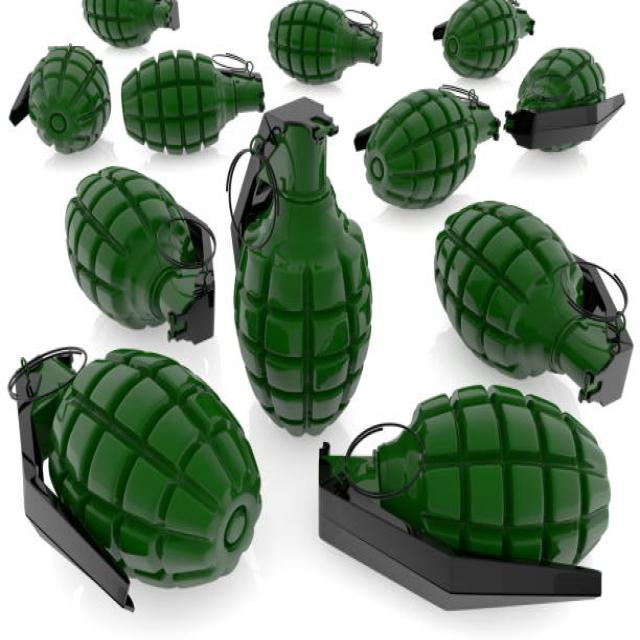grenade: (3, 341, 261, 626), (317, 383, 612, 614), (222, 96, 378, 437), (435, 194, 636, 410), (62, 163, 223, 353), (350, 80, 506, 210), (115, 45, 267, 155), (504, 44, 630, 155)
